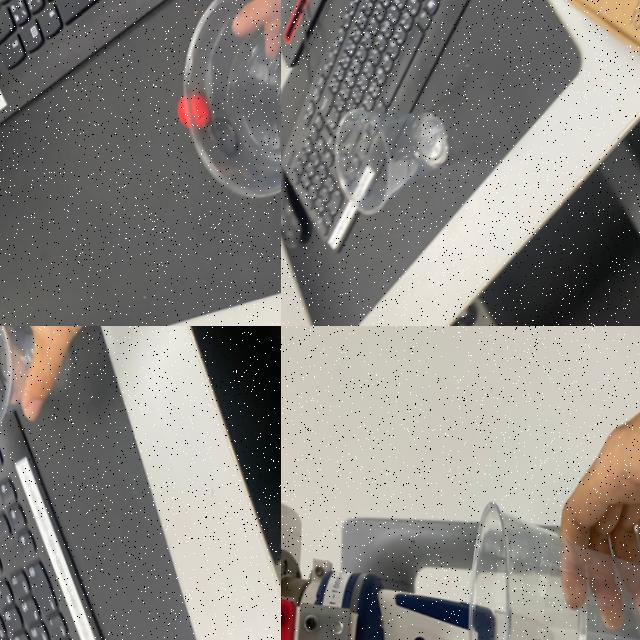glass: (458, 490, 640, 640), (177, 0, 281, 207), (329, 90, 452, 218), (0, 326, 78, 461)
